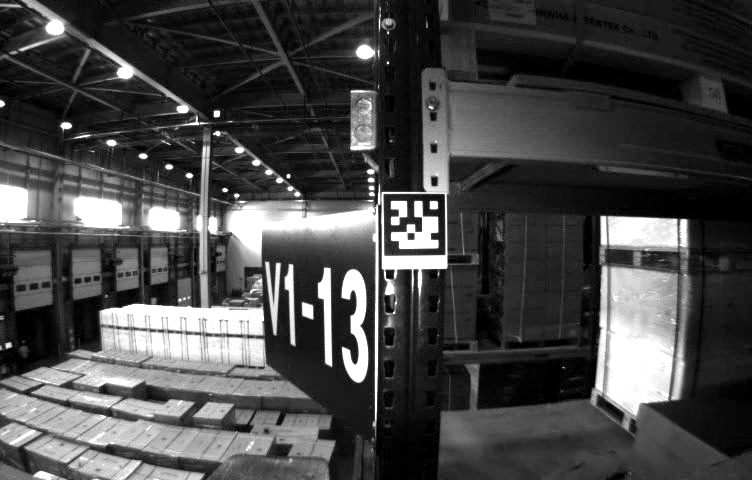True Barcode: (486, 1, 540, 19)
